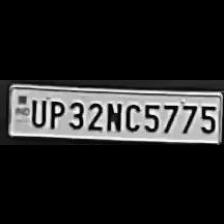2: (84, 99, 104, 131)
3: (66, 97, 84, 128)
5: (196, 100, 216, 134), (140, 100, 160, 132)
7: (178, 100, 195, 132), (161, 101, 177, 133)
C: (123, 99, 141, 130)
N: (104, 99, 122, 131)
P: (44, 97, 64, 129)
U: (27, 96, 45, 127)
